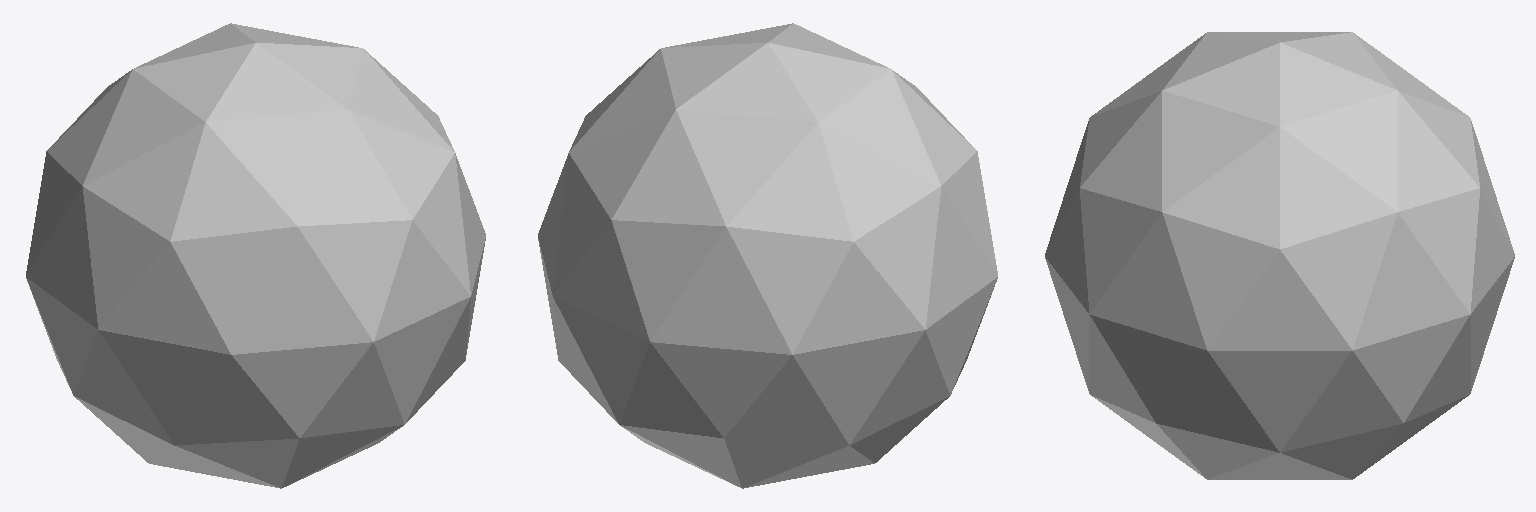
File: dome.obj
3 renders of one model, left to right at view 1: azimuth 30°, elevation 25°; view 2: azimuth 150°, elevation 25°; view 3: azimuth 270°, elevation 25°, orthographic.
Visible parts, largest first — view 1: Icosphere; view 2: Icosphere; view 3: Icosphere.
Part boxes in pixels (left/top/right/bottom): Icosphere: left=26, top=23, right=485, bottom=488; Icosphere: left=538, top=23, right=997, bottom=488; Icosphere: left=1045, top=32, right=1514, bottom=479.
Size of the model in its own units: 0.1488 by 0.1564 by 0.1564.